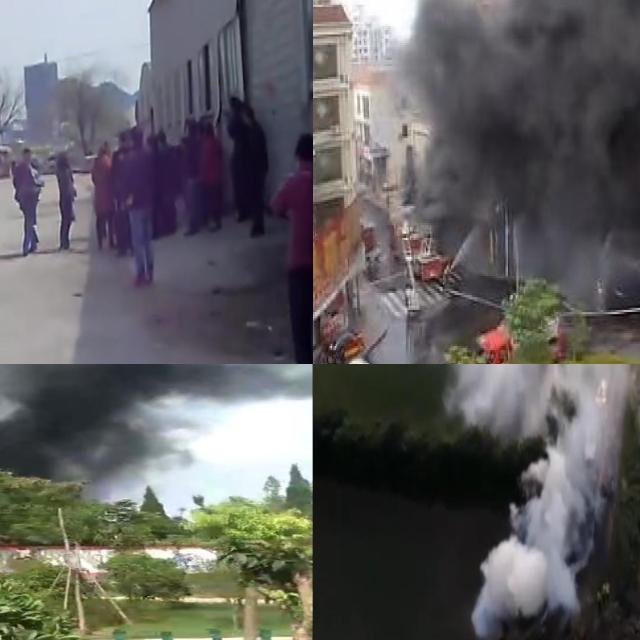smoke: (407, 0, 640, 267), (436, 364, 640, 640), (0, 364, 313, 467)
